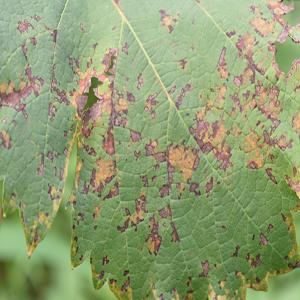Folha: (0, 0, 299, 299)
Fungo: (0, 63, 45, 119), (28, 132, 52, 189), (140, 143, 166, 190), (231, 16, 253, 71), (75, 75, 103, 118), (91, 145, 117, 191), (49, 56, 70, 110), (107, 71, 131, 116), (222, 80, 243, 130), (209, 53, 238, 88), (261, 136, 282, 184), (260, 99, 296, 126), (100, 120, 120, 168), (18, 47, 52, 75), (46, 137, 70, 175), (65, 104, 86, 146), (193, 122, 215, 162), (231, 77, 258, 109), (180, 148, 202, 186), (275, 9, 297, 47), (251, 45, 269, 91), (145, 213, 162, 255), (15, 226, 40, 254), (74, 166, 91, 202), (16, 14, 37, 42), (158, 8, 179, 34), (267, 71, 288, 97), (251, 30, 270, 58), (286, 57, 298, 101), (248, 0, 281, 16), (244, 146, 264, 172), (40, 188, 61, 212), (244, 112, 260, 141), (174, 51, 194, 74), (74, 126, 100, 143), (144, 90, 159, 118), (292, 103, 300, 141), (16, 177, 27, 204), (17, 18, 34, 34), (65, 211, 85, 223), (214, 107, 223, 132), (180, 91, 196, 104), (198, 260, 210, 276), (120, 276, 130, 292), (258, 232, 268, 246), (230, 244, 240, 257), (173, 140, 181, 156), (121, 41, 129, 55), (225, 28, 236, 38), (30, 12, 40, 21), (51, 28, 57, 42), (266, 222, 273, 232), (102, 254, 109, 264), (30, 36, 37, 46), (92, 41, 98, 52), (79, 22, 85, 32)
